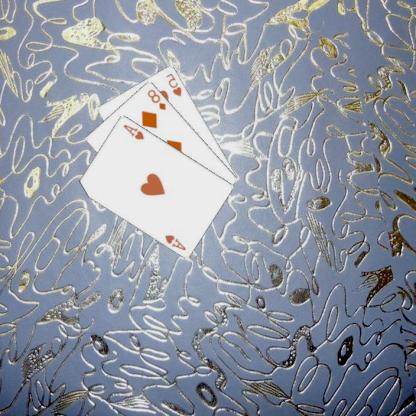5H: (165, 70, 185, 98)
8D: (147, 86, 169, 111)
AH: (164, 232, 189, 252), (122, 122, 147, 140)
